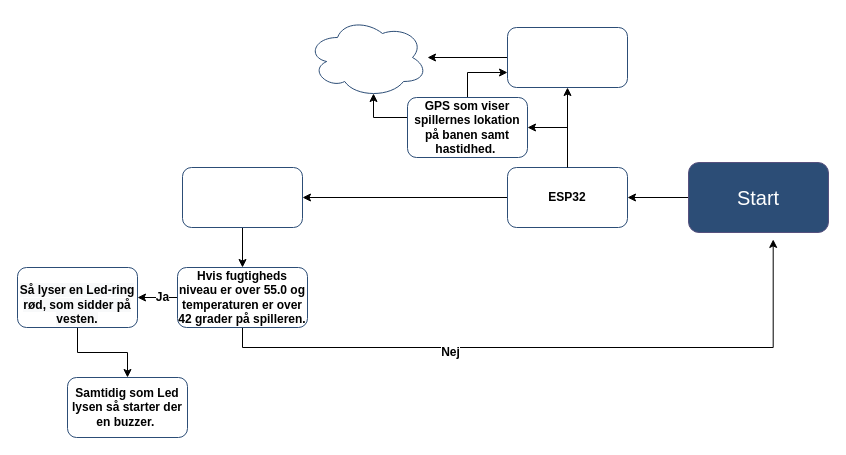
This 846x455 diagram has some shape labels left out. Here are the shapes that lost their labels. From the top down, the box of each, then its label:
(306, 16, 428, 98): Adafruit
(506, 26, 628, 88): 4G Wifi router
(182, 166, 302, 228): DHT11 fugitgheds sensor og temperatur
